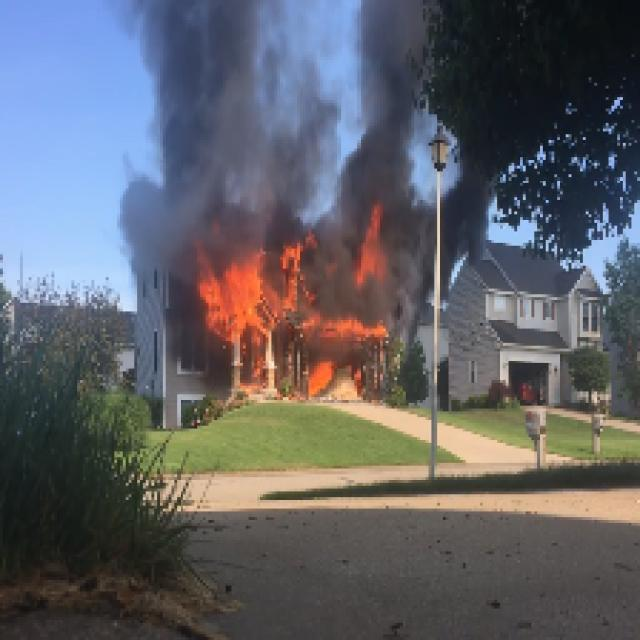Fire: (204, 252, 388, 346)
Smoke: (136, 0, 426, 221)
